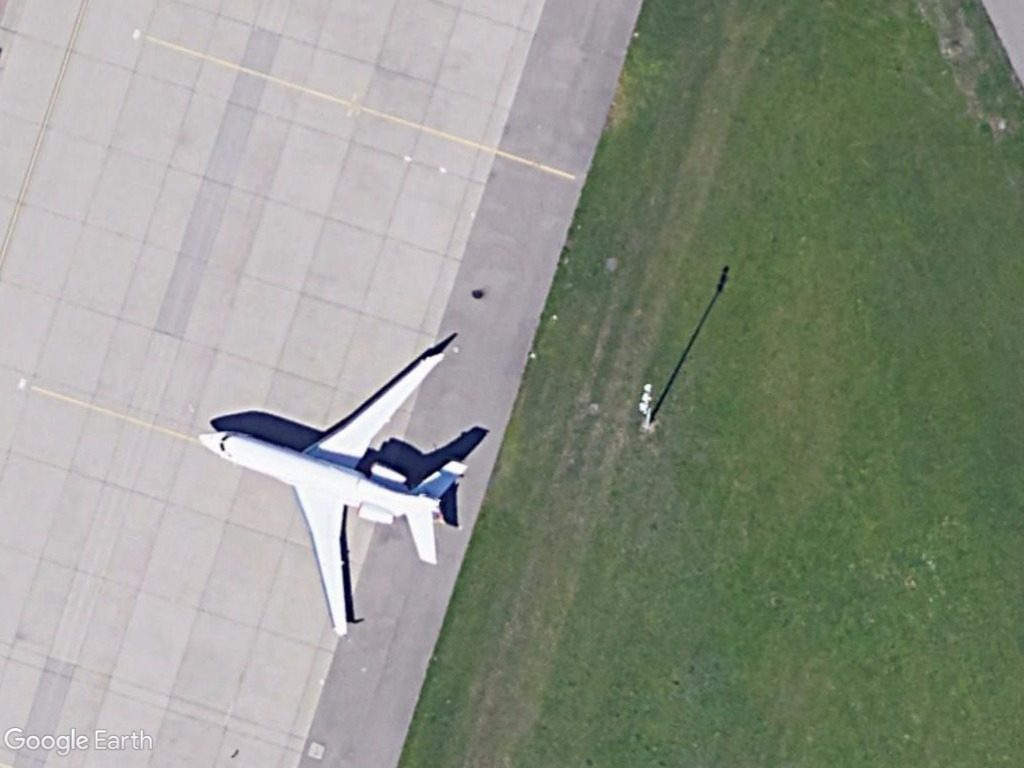chartered: (192, 344, 476, 643)
